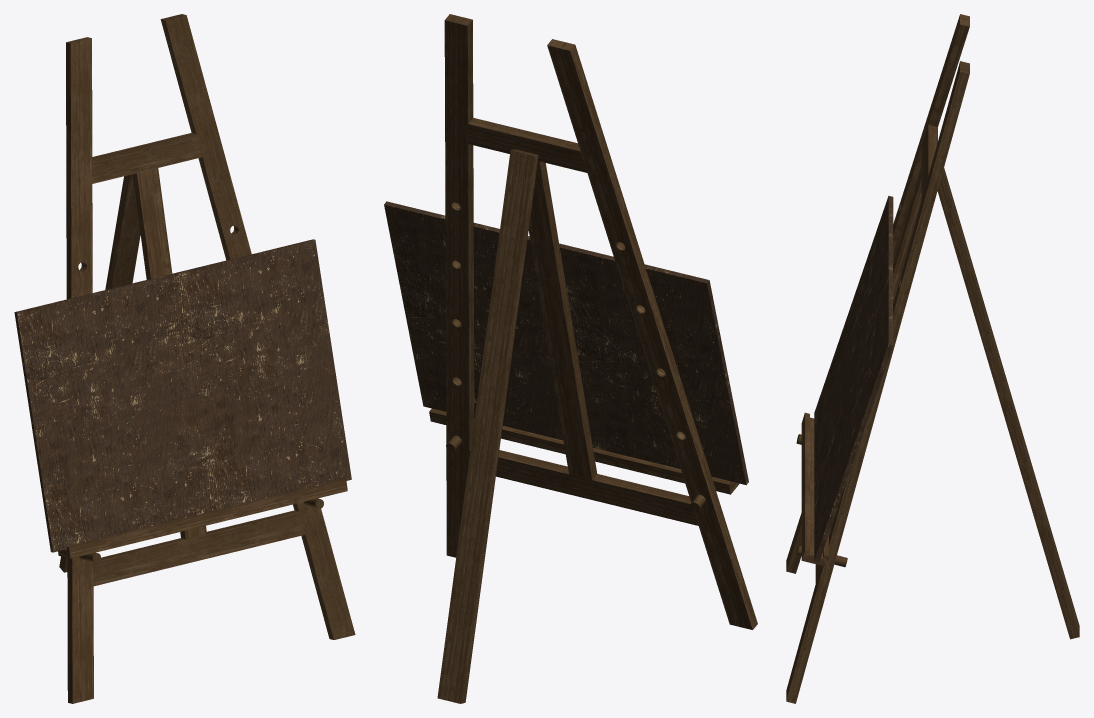
The model's file is JueunEasel.fbx.
3 renders of one model, left to right at view 1: azimuth 30°, elevation 25°; view 2: azimuth 150°, elevation 25°; view 3: azimuth 270°, elevation 25°, orthographic. The views are drawn at different scales.
Parts seen in each view (by area): view 1: easel001; view 2: easel001; view 3: easel001.
Part boxes in pixels (left/top/right/bottom): easel001: left=14, top=14, right=355, bottom=703; easel001: left=384, top=14, right=757, bottom=703; easel001: left=786, top=14, right=1079, bottom=703.
Size of the model in its own units: 81.97 by 152 by 68.51.
